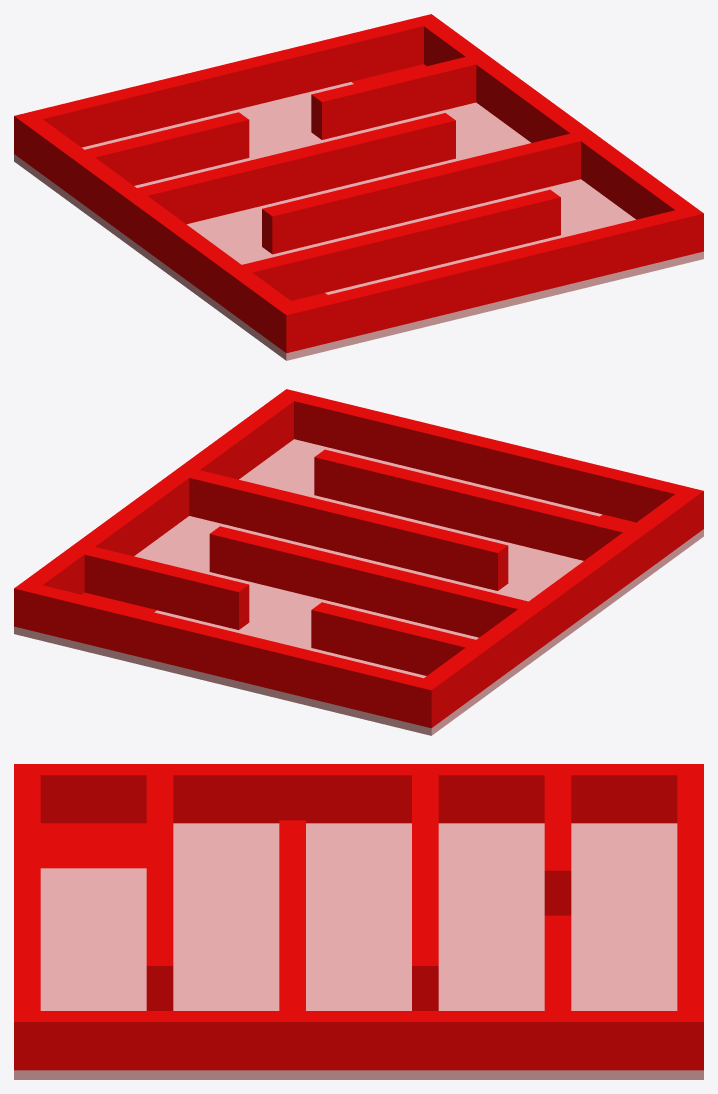
Rendered from field_v1.dae.
3 renders of one model, top to bottom at view 1: azimuth 30°, elevation 25°; view 2: azimuth 150°, elevation 25°; view 3: azimuth 270°, elevation 25°, orthographic. The views are drawn at different scales.
Parts seen in each view (by area): view 1: Body17, Body9; view 2: Body17, Body9; view 3: Body17, Body9, Body10.
Part boxes in pixels (box(x1,y1,x2,y2)): Body17: box(14, 14, 703, 353); Body9: box(14, 82, 703, 360); Body17: box(14, 389, 703, 728); Body9: box(14, 439, 703, 735); Body17: box(14, 764, 703, 1070); Body9: box(14, 823, 703, 1079); Body10: box(40, 823, 146, 868).
Bounding box in the file's own units: 2.87 × 3.25 × 0.3.
